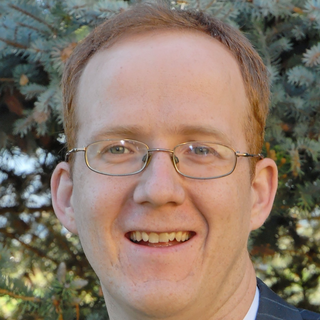eye: (94, 138, 142, 161), (179, 139, 221, 160)
